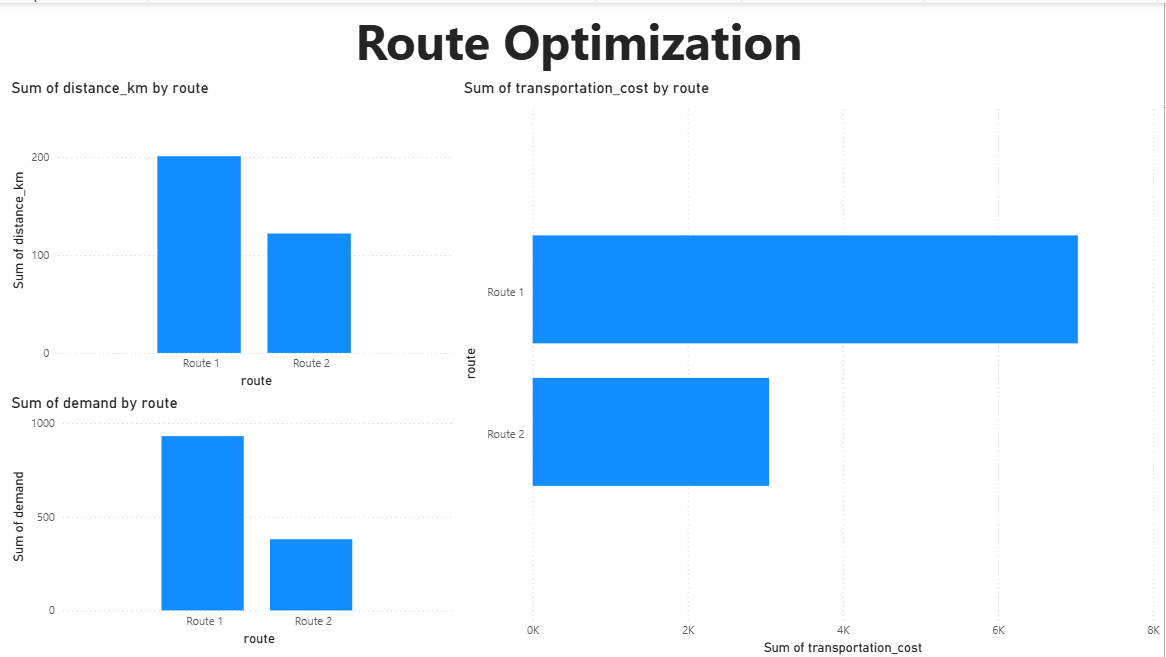

This screenshot's page, from the dashboard's own definition file:
{"tool":"powerbi","page":{"name":"Page 3","canvas":[1280,720],"ordinal":2},"visuals":[{"type":"textbox","box":[9.6,0,1270.7,82.3],"z":0},{"type":"clusteredColumnChart","fields":{"Category":["Data (9).route"],"Y":["Sum(Data (9).distance_km)"]},"box":[9.6,82.3,496.7,345.8],"z":1000},{"type":"clusteredColumnChart","fields":{"Category":["Data (9).route"],"Y":["Sum(Data (9).demand)"]},"box":[9.6,428.1,496.7,282.7],"z":2000},{"type":"barChart","fields":{"Category":["Data (9).route"],"Y":["Sum(Data (9).transportation_cost)"]},"box":[506.3,82.3,773.9,638.1],"z":3000}]}

Visuals, with their boxes in screenshot pixels (x1, y1, x2, y2), scaled from the page's 1280x720 canvas onto the 1166x657 screenshot:
textbox: 9, 0, 1165, 75
clusteredColumnChart - Data (9).route x Sum(Data (9).distance_km): 9, 75, 461, 391
clusteredColumnChart - Data (9).route x Sum(Data (9).demand): 9, 391, 461, 649
barChart - Data (9).route x Sum(Data (9).transportation_cost): 461, 75, 1165, 656
